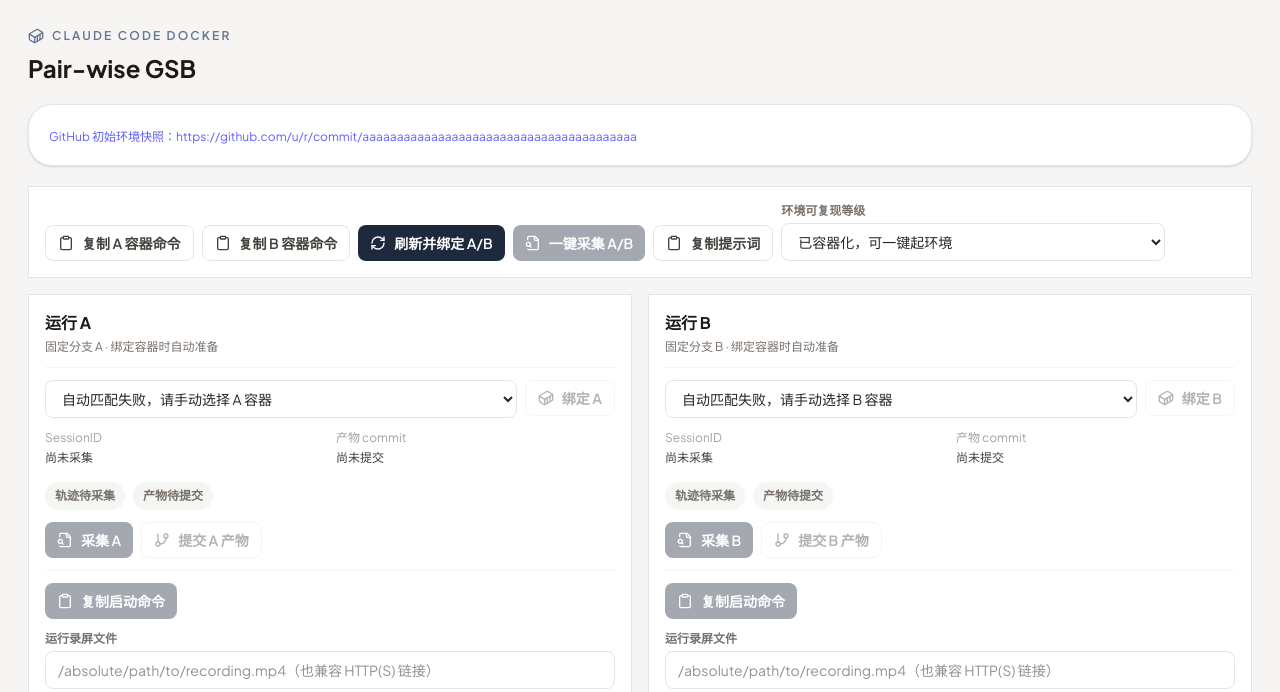
Scenario: AnnotationWorkspace › refreshes once, binds both exact containers, then copies one prompt
Click the button "刷新并绑定 A/B".
click(432, 243)  # box [358,225,505,261]
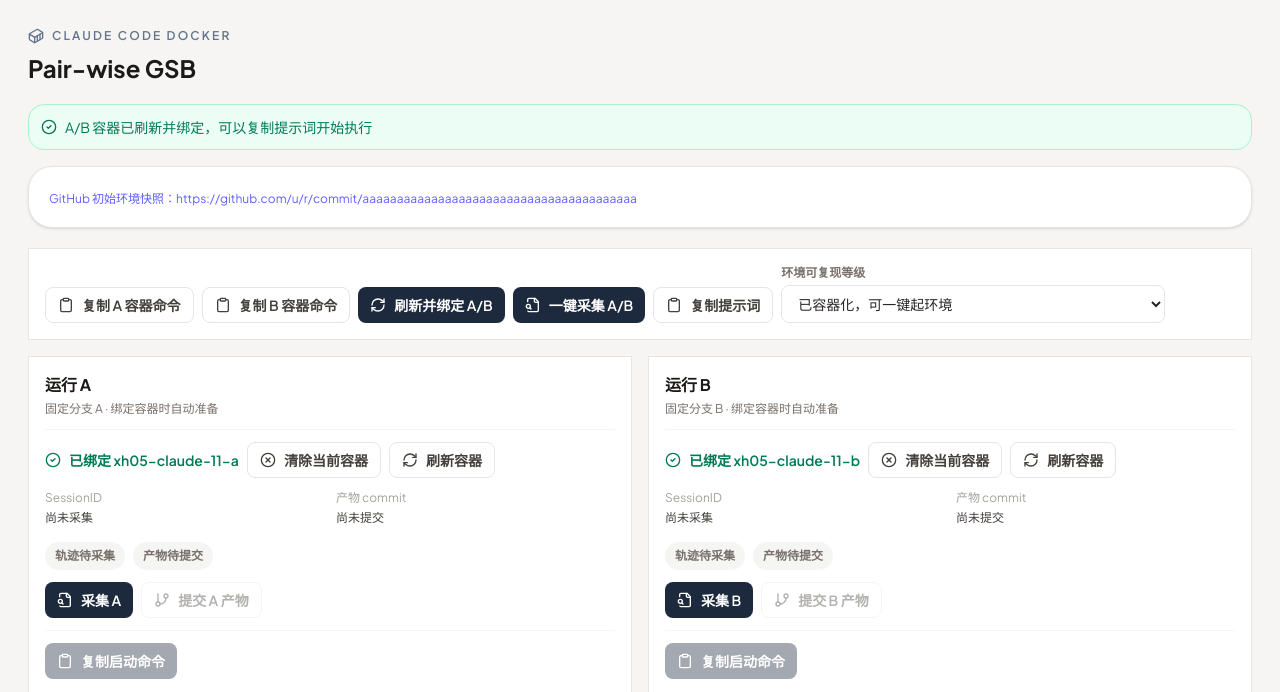
Expected: the text "已绑定 xh05-claude-11-a" is shown, [69,450,239,470]
Expected: the text "已绑定 xh05-claude-11-b" is shown, [689,450,860,470]
Click the button "复制提示词".
click(713, 305)  # box [653,287,773,323]
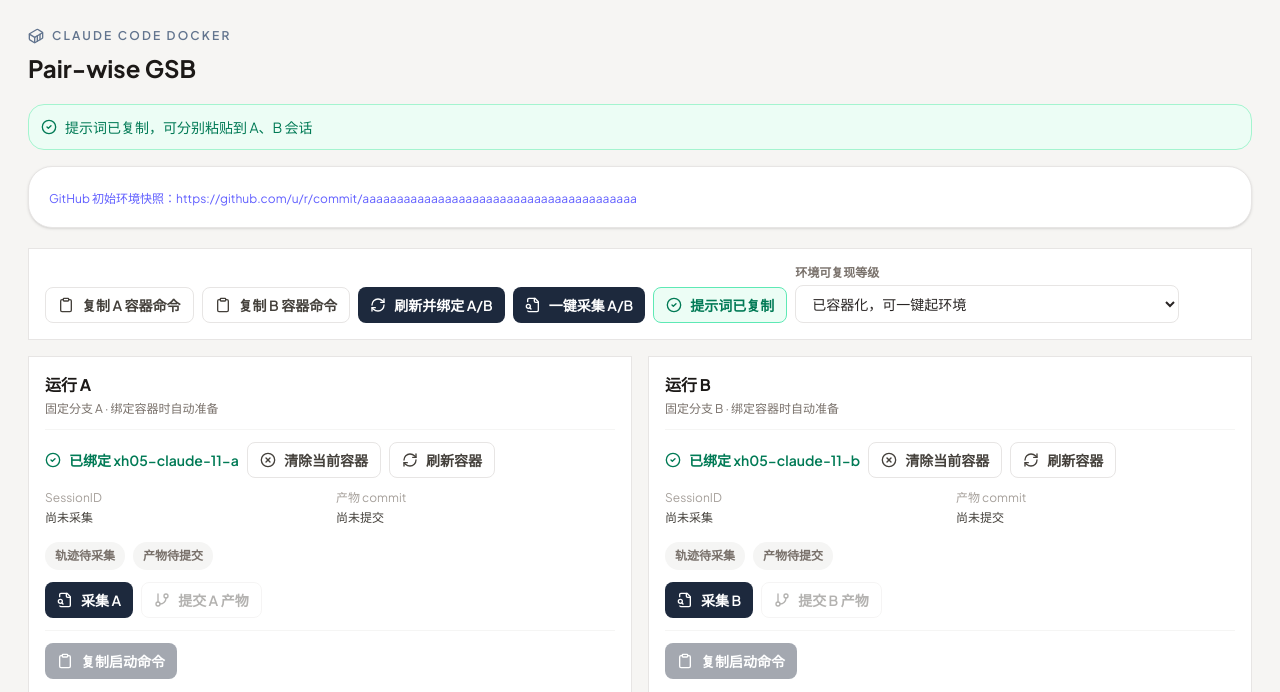
Expected: the button "提示词已复制" is shown, [653,287,787,323]
